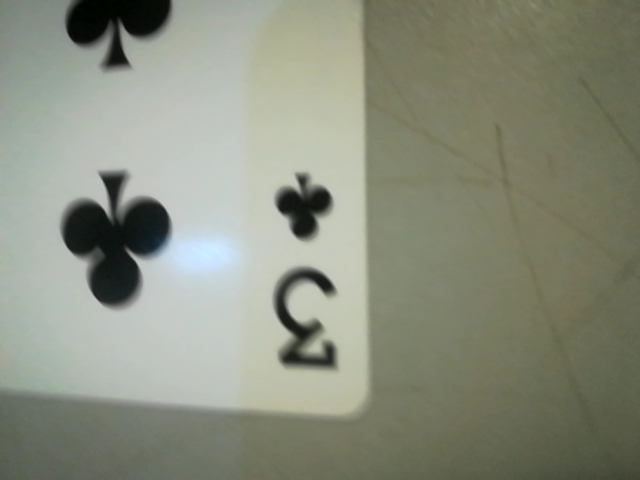mh 3: (260, 162, 363, 388)
